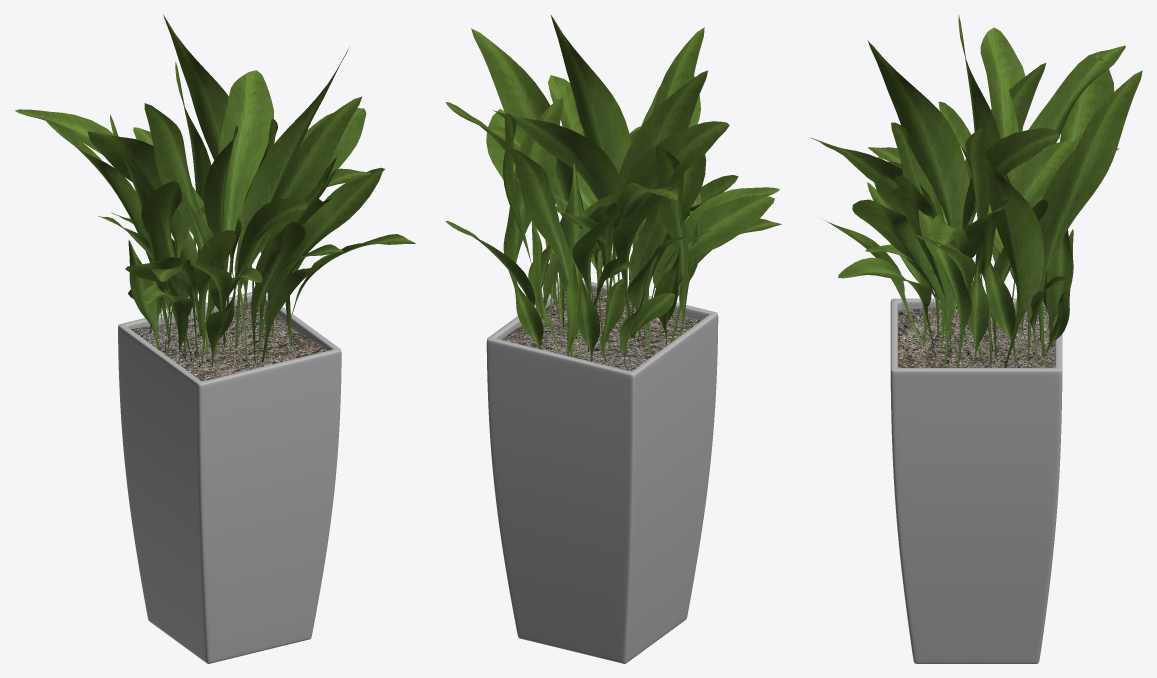
Rendered from AddobbiFloreali.glb.
3 renders of one model, left to right at view 1: azimuth 30°, elevation 25°; view 2: azimuth 150°, elevation 25°; view 3: azimuth 270°, elevation 25°, orthographic. The views are drawn at different scales.
Visible parts, largest first — view 1: Mesh1_M_06___Defaultdsa_0; view 2: Mesh1_M_06___Defaultdsa_0; view 3: Mesh1_M_06___Defaultdsa_0.
Part boxes in pixels (<box>): Mesh1_M_06___Defaultdsa_0: <box>15,14,415,663</box>; Mesh1_M_06___Defaultdsa_0: <box>445,14,781,663</box>; Mesh1_M_06___Defaultdsa_0: <box>810,14,1142,663</box>.
Size of the model in its own units: 6.72 by 12.46 by 6.51.
Materials: 3 (2 with a texture image).
